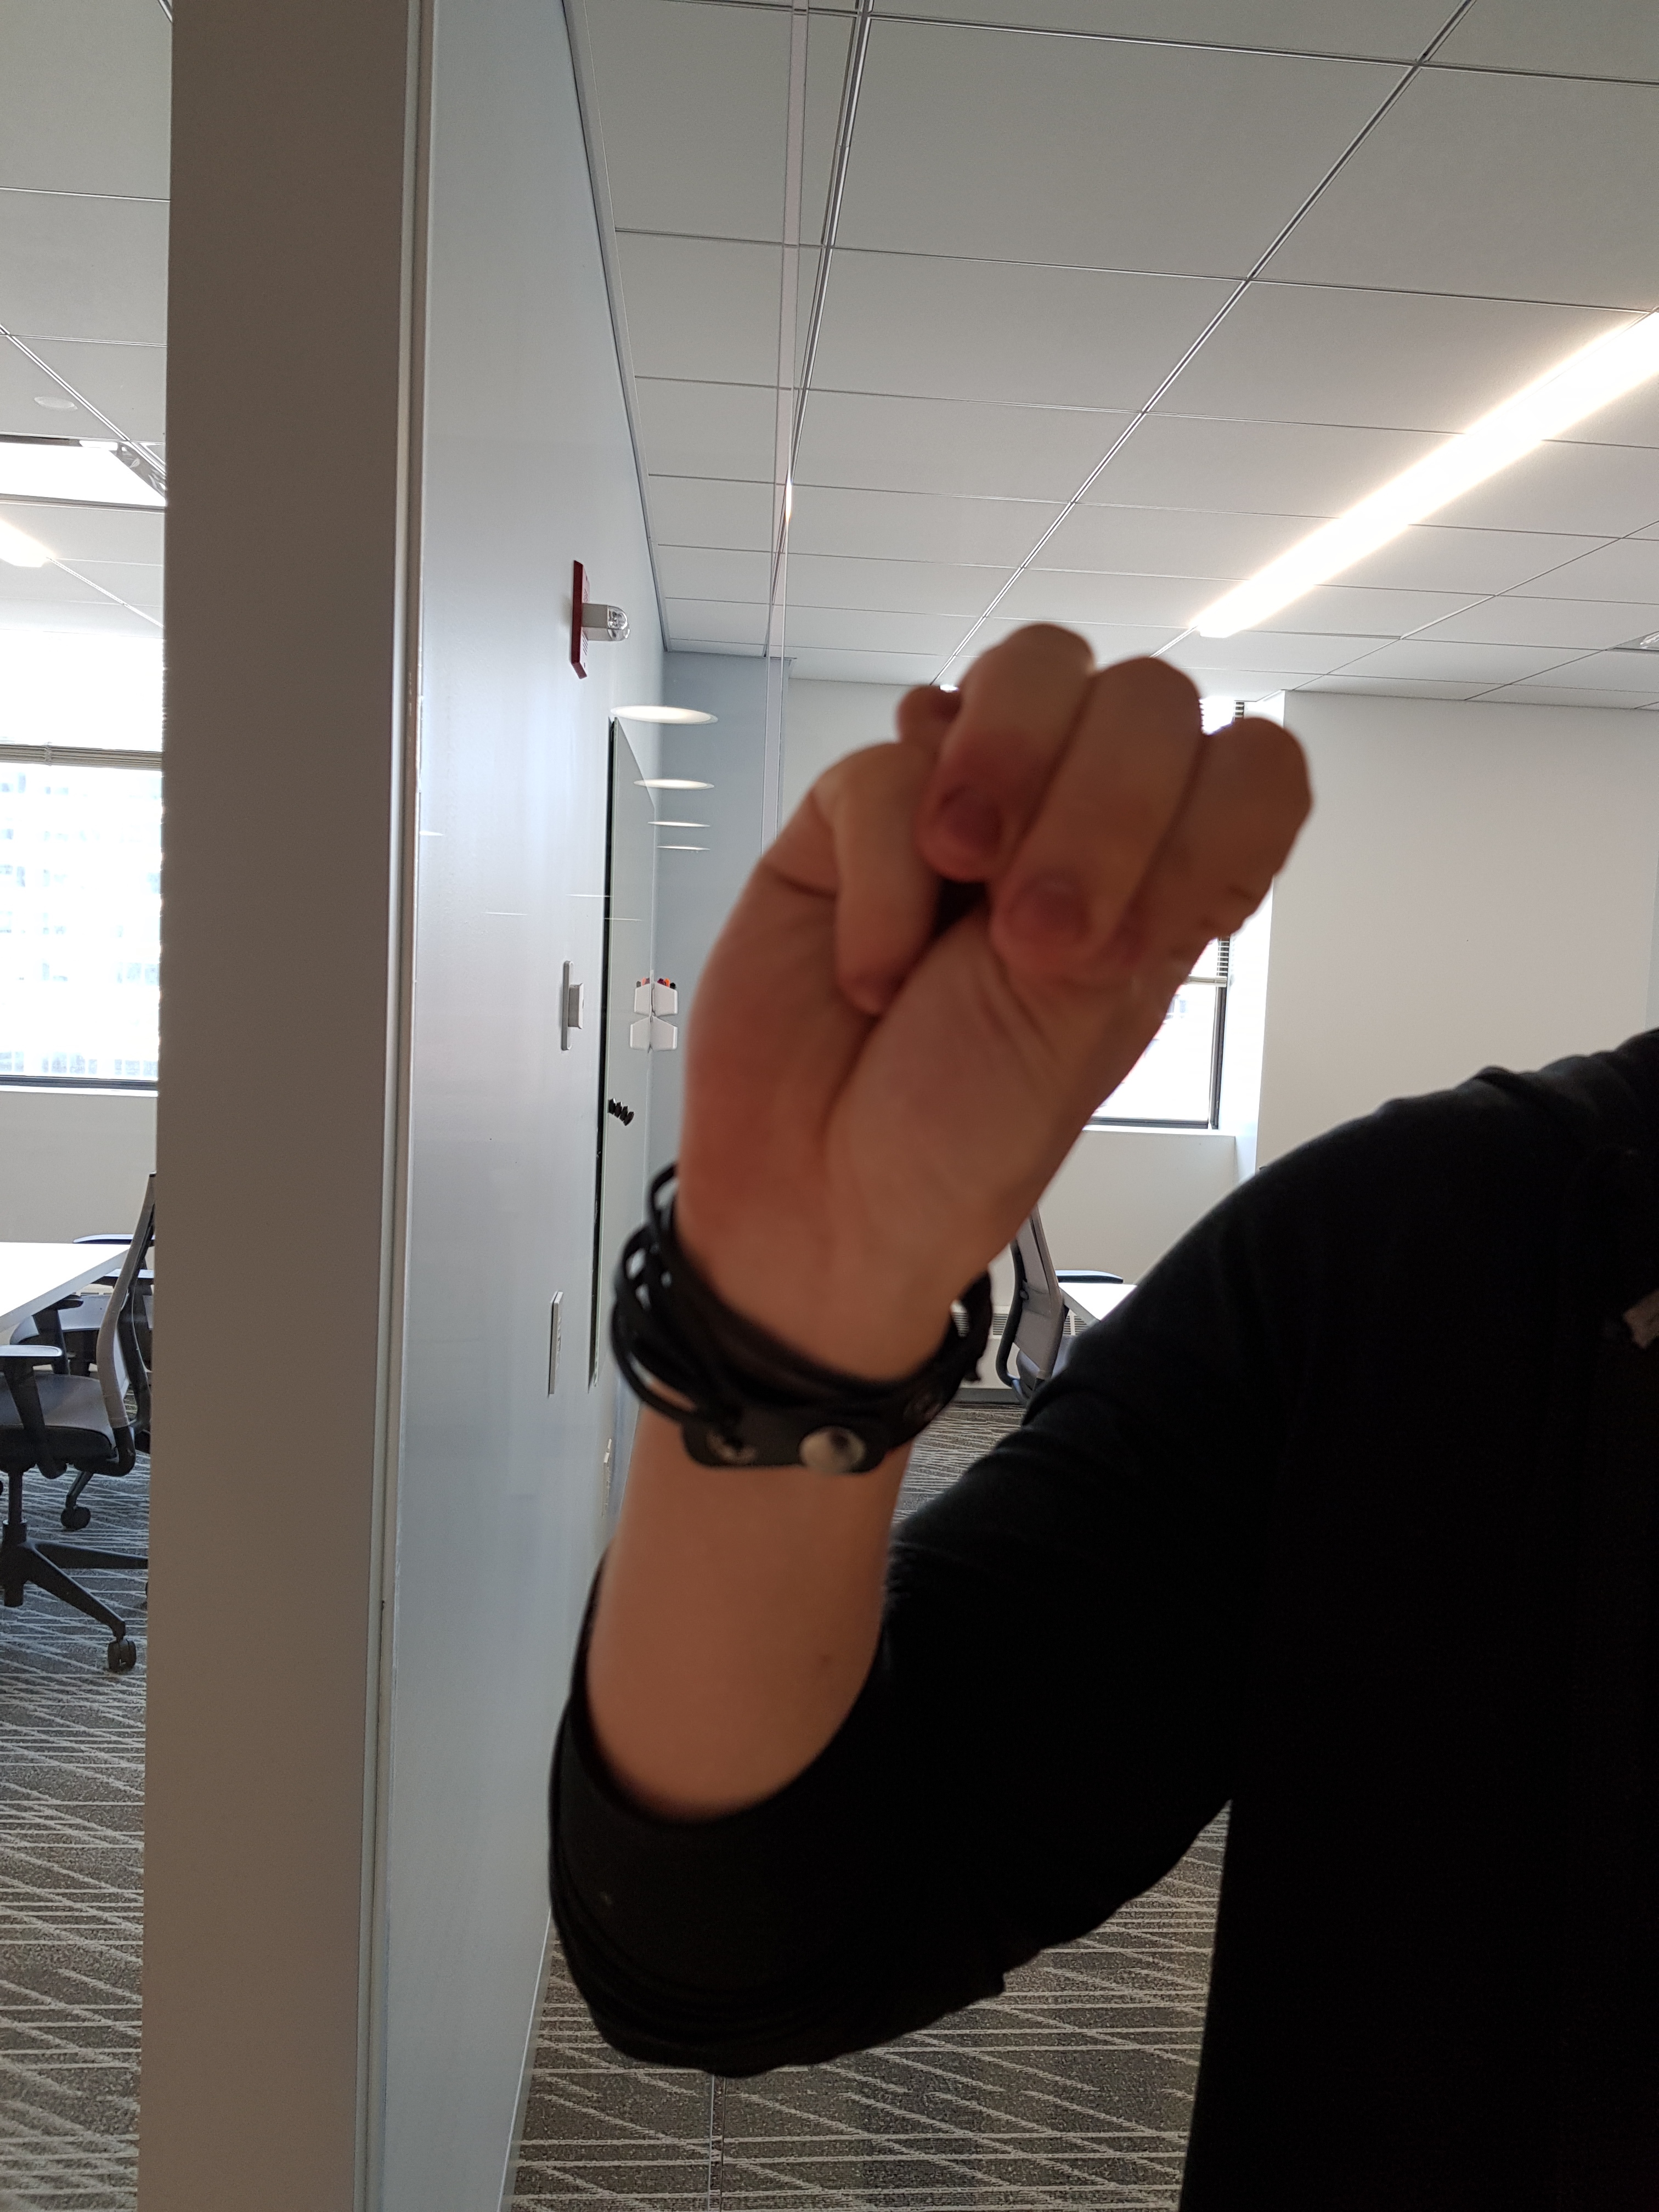m: (638, 589, 1344, 1369)
